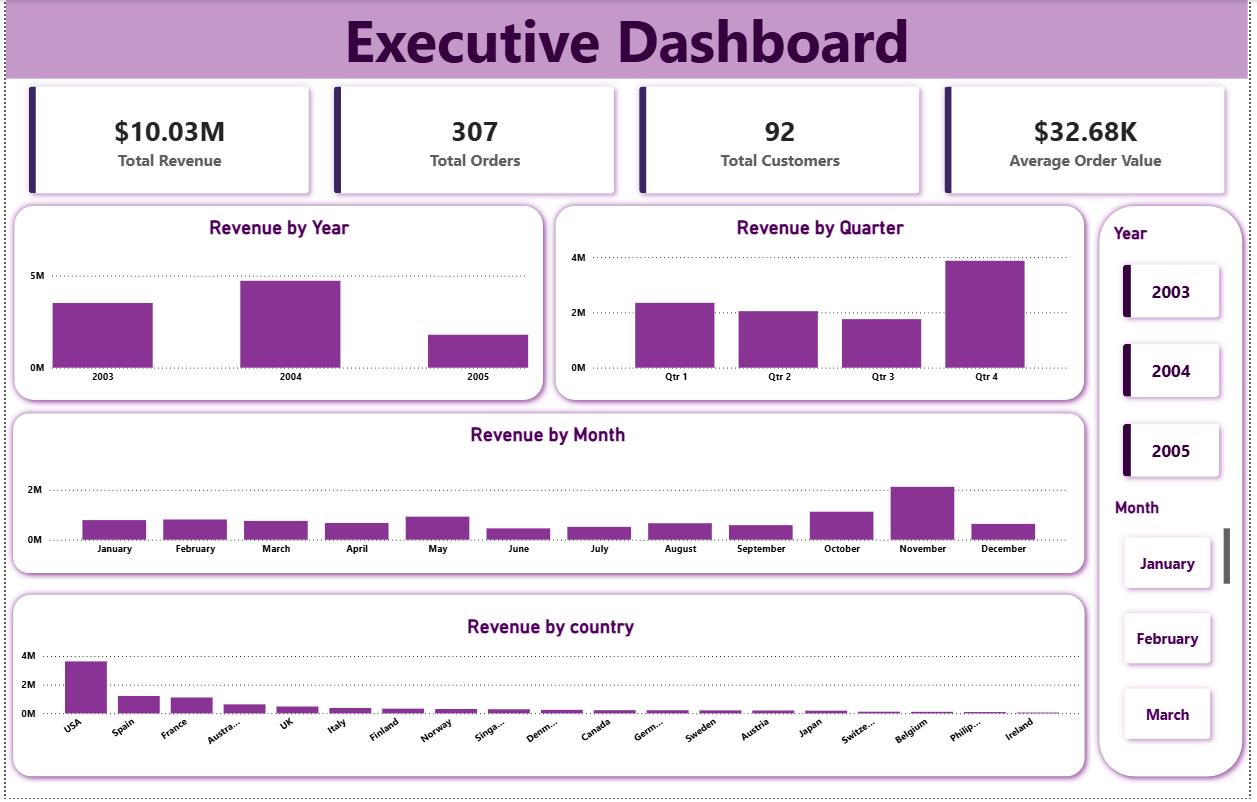

This screenshot's page, from the dashboard's own definition file:
{"tool":"powerbi","page":{"name":"Executive Dashboard","canvas":[1580,1015],"ordinal":0},"visuals":[{"type":"cardVisual","fields":{"Data":["Measures (2).Total Revenue","Measures (2).Total Orders","Measures (2).Total Customers","Measures (2).Average Order Value"]},"box":[0,80.7,1580,194.7],"z":0},{"type":"shape","box":[1.6,252.9,690,264.7],"z":1000},{"type":"clusteredColumnChart","title":"Revenue by Year","fields":{"Y":["Measures (2).Total Revenue"],"Category":["Orders.order_date.Variation.Date Hierarchy.Year"]},"box":[25.3,275.1,643.5,222.5],"z":2000},{"type":"shape","box":[689.3,252.9,690,264.7],"z":3000},{"type":"clusteredColumnChart","title":"Revenue by Quarter","fields":{"Y":["Measures (2).Total Revenue"],"Category":["Orders.order_date.Variation.Date Hierarchy.Quarter"]},"box":[713,275.1,643.5,222.5],"z":4000},{"type":"shape","box":[0,516.9,1379.9,221.1],"z":5000},{"type":"clusteredColumnChart","title":"Revenue by Month","fields":{"Y":["Measures (2).Total Revenue"],"Category":["Orders.order_date.Variation.Date Hierarchy.Month"]},"box":[22.1,539.1,1333.5,177.4],"z":6000},{"type":"shape","box":[0,747,1380.1,249],"z":7000},{"type":"clusteredColumnChart","title":"Revenue by country","fields":{"Y":["Measures (2).Total Revenue"],"Category":["Customers.country"]},"box":[14,782.1,1356.4,177.1],"z":8000},{"type":"shape","box":[1380.1,252.5,199.9,743.5],"z":9000},{"type":"advancedSlicerVisual","fields":{"Values":["Orders.order_date.Variation.Date Hierarchy.Year"]},"box":[1402.9,284.1,156.1,340.2],"z":10000},{"type":"advancedSlicerVisual","fields":{"Values":["Orders.order_date.Variation.Date Hierarchy.Month"]},"box":[1404.7,633.1,156.1,326.2],"z":11000},{"type":"shape","title":"Executive Dashboard","box":[0,0,1578.3,100],"z":13000}]}

Visuals, with their boxes in screenshot pixels (x1, y1, x2, y2), scaled from the page's 1580x1015 canvas onto the 1257x802 screenshot:
cardVisual - Measures (2).Total Revenue x Measures (2).Total Orders: 0:64:1256:218
shape: 1:200:550:409
"Revenue by Year" clusteredColumnChart: 20:217:532:393
shape: 548:200:1097:409
"Revenue by Quarter" clusteredColumnChart: 567:217:1079:393
shape: 0:408:1098:583
"Revenue by Month" clusteredColumnChart: 18:426:1078:566
shape: 0:590:1098:787
"Revenue by country" clusteredColumnChart: 11:618:1090:758
shape: 1098:200:1256:787
advancedSlicerVisual - Orders.order_date.Variation.Date Hierarchy.Year: 1116:224:1240:493
advancedSlicerVisual - Orders.order_date.Variation.Date Hierarchy.Month: 1118:500:1242:758
"Executive Dashboard" shape: 0:0:1256:79
